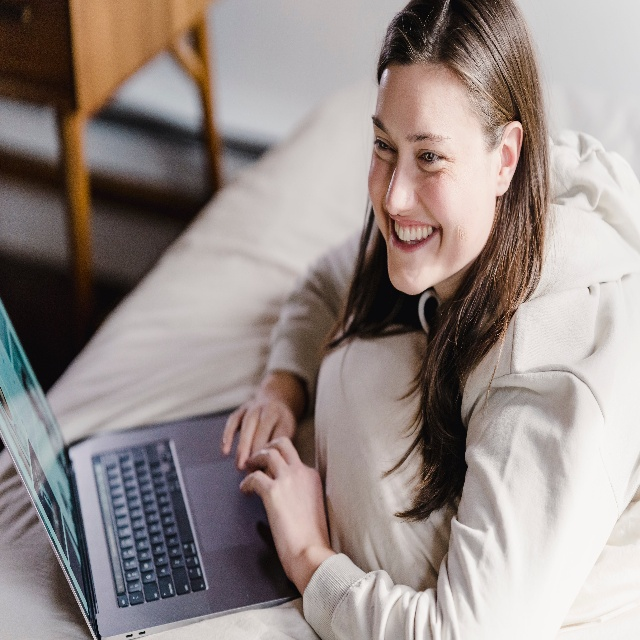Sin_guantes: (239, 435, 330, 583), (221, 397, 297, 472)
